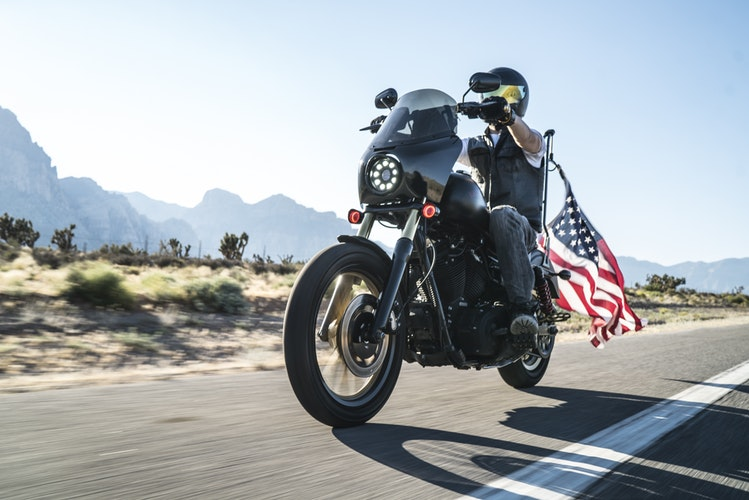helmet: (472, 59, 529, 120)
